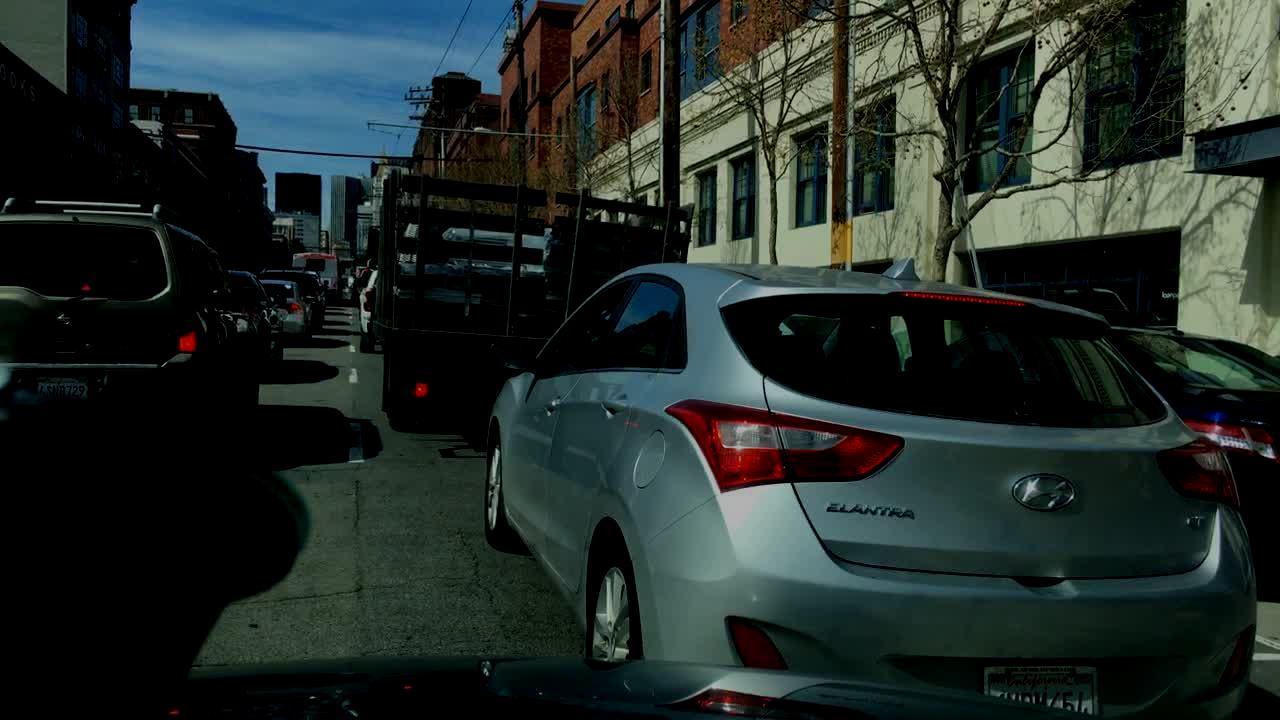Hyundai: (1008, 466, 1080, 519)
